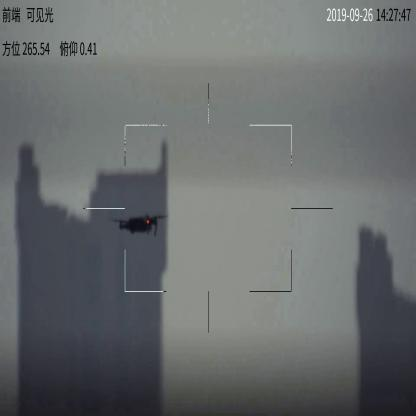uav: (113, 210, 168, 236)
